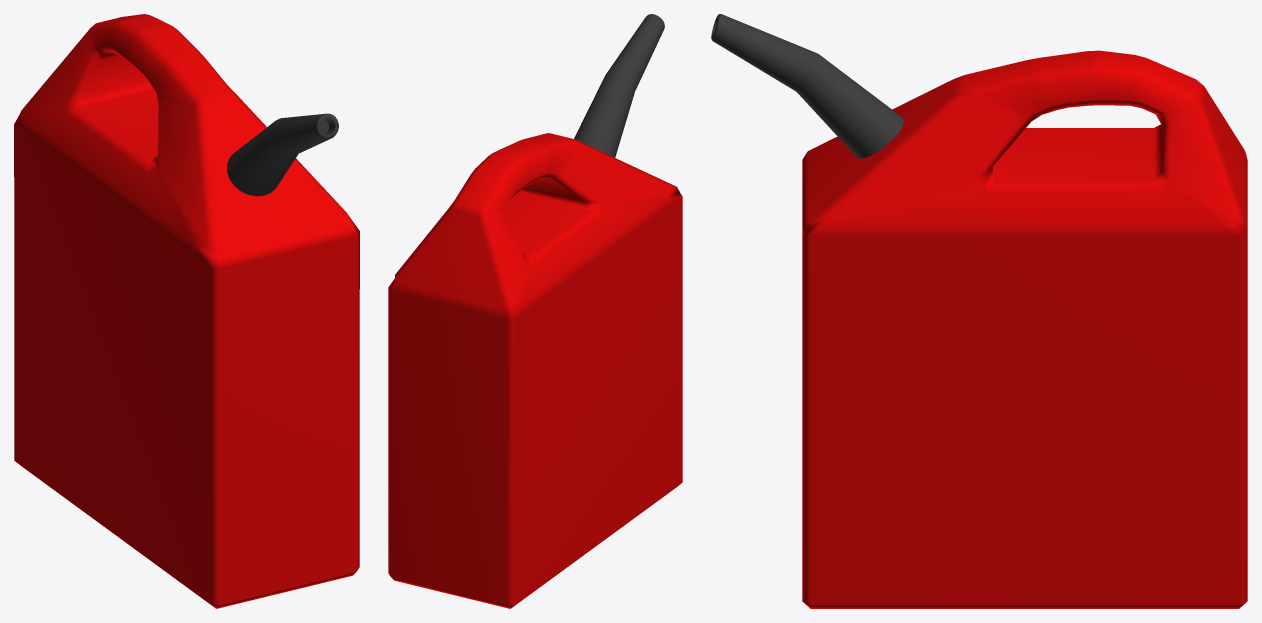
File: Fuel.fbx
3 renders of one model, left to right at view 1: azimuth 30°, elevation 25°; view 2: azimuth 150°, elevation 25°; view 3: azimuth 270°, elevation 25°, orthographic. The views are drawn at different scales.
Visible parts, largest first — view 1: FuelTank; view 2: FuelTank; view 3: FuelTank.
Boxes of the visible parts, x1=… form: FuelTank: x1=14, y1=14, x2=359, y2=608; FuelTank: x1=388, y1=14, x2=682, y2=608; FuelTank: x1=711, y1=14, x2=1247, y2=608.
Bounding box in the file's own units: 3.21 × 10.4 × 9.07.
